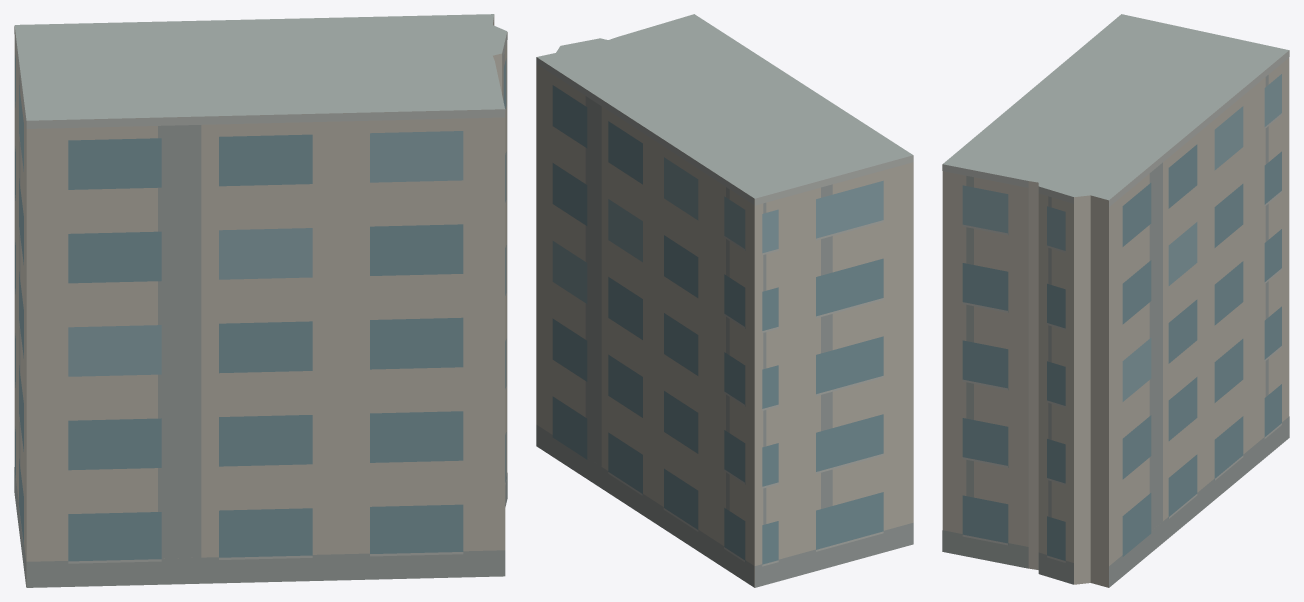
The model's file is survey-upis-32726261.glb.
3 renders of one model, left to right at view 1: azimuth 30°, elevation 25°; view 2: azimuth 150°, elevation 25°; view 3: azimuth 270°, elevation 25°, orthographic. The views are drawn at different scales.
Parts seen in each view (by area): view 1: survey-upis-32726261.tmp; view 2: survey-upis-32726261.tmp; view 3: survey-upis-32726261.tmp.
Part boxes in pixels (x1,y1,x2,y2): survey-upis-32726261.tmp: (14, 14, 507, 587); survey-upis-32726261.tmp: (536, 14, 913, 587); survey-upis-32726261.tmp: (942, 14, 1289, 587).
Bounding box in the file's own units: 14.13 × 13.7 × 11.12.
